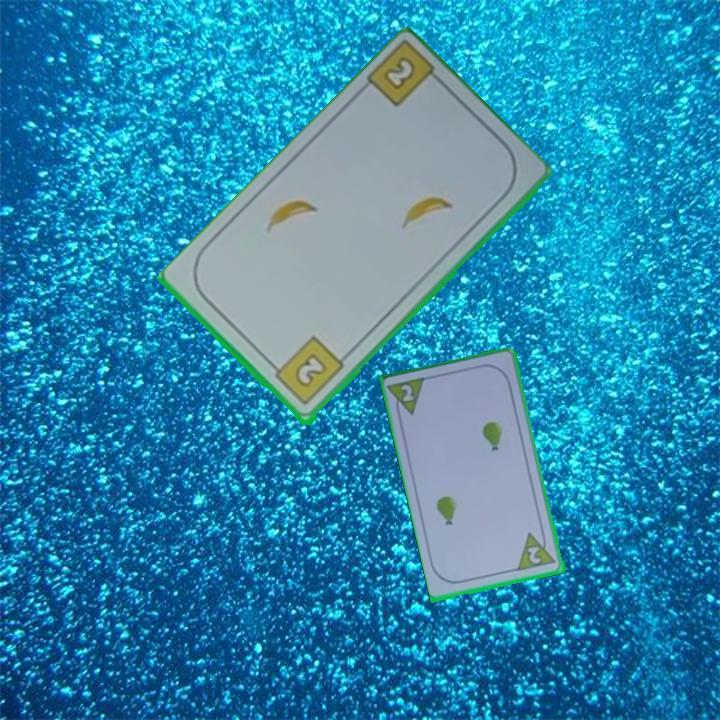2b: (266, 333, 347, 409), (362, 40, 448, 111)
2p: (385, 373, 430, 422), (524, 543, 544, 567)
